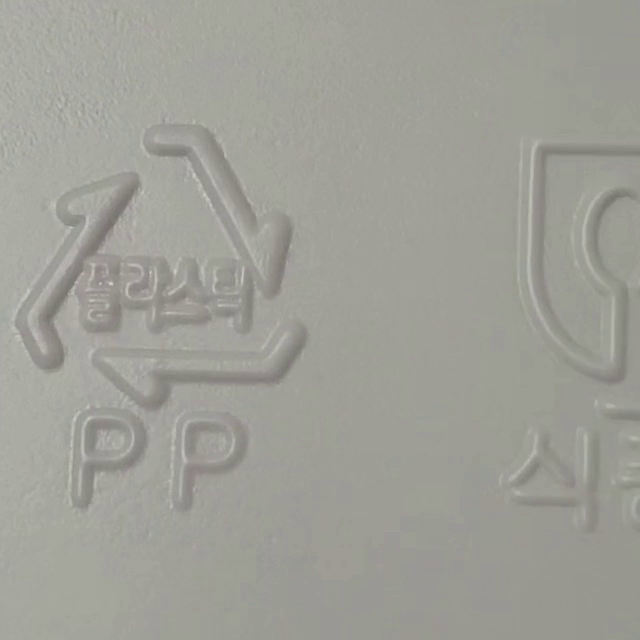Plastic: (16, 118, 305, 401)
